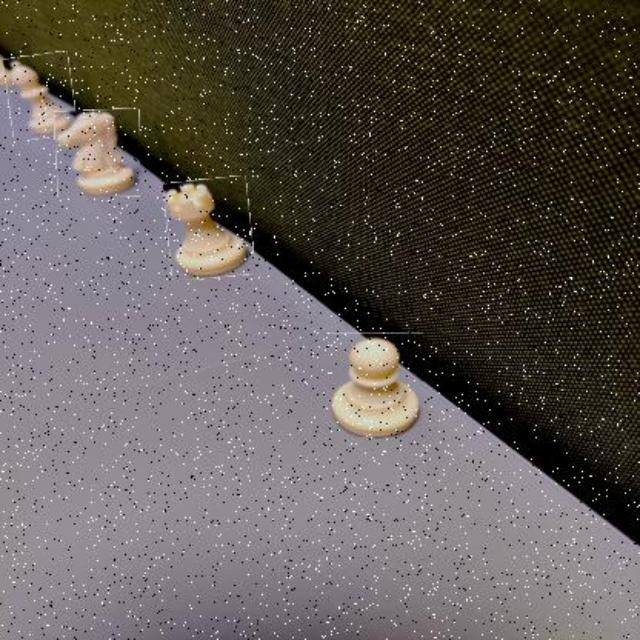white-bishop: (7, 53, 76, 139)
white-knight: (55, 109, 141, 197)
white-pawn: (326, 332, 424, 438)
white-rook: (165, 178, 252, 278)
